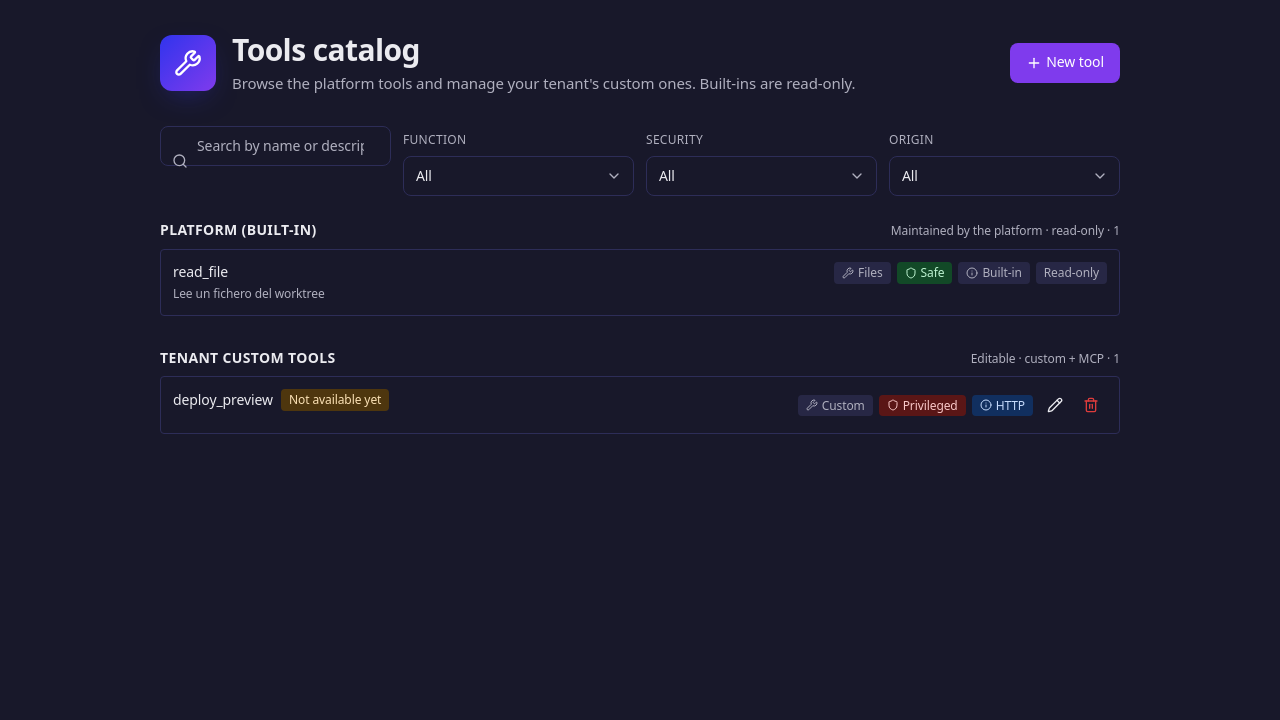
Test case: tools — catálogo en inglés › el diálogo de borrado rinde su aviso traducido
This screenshot has width=1280, height=720.
Click the button with test id "tool-delete-tool-2" at x=1091, y=405, box x1=1075 y1=389 x2=1107 y2=421
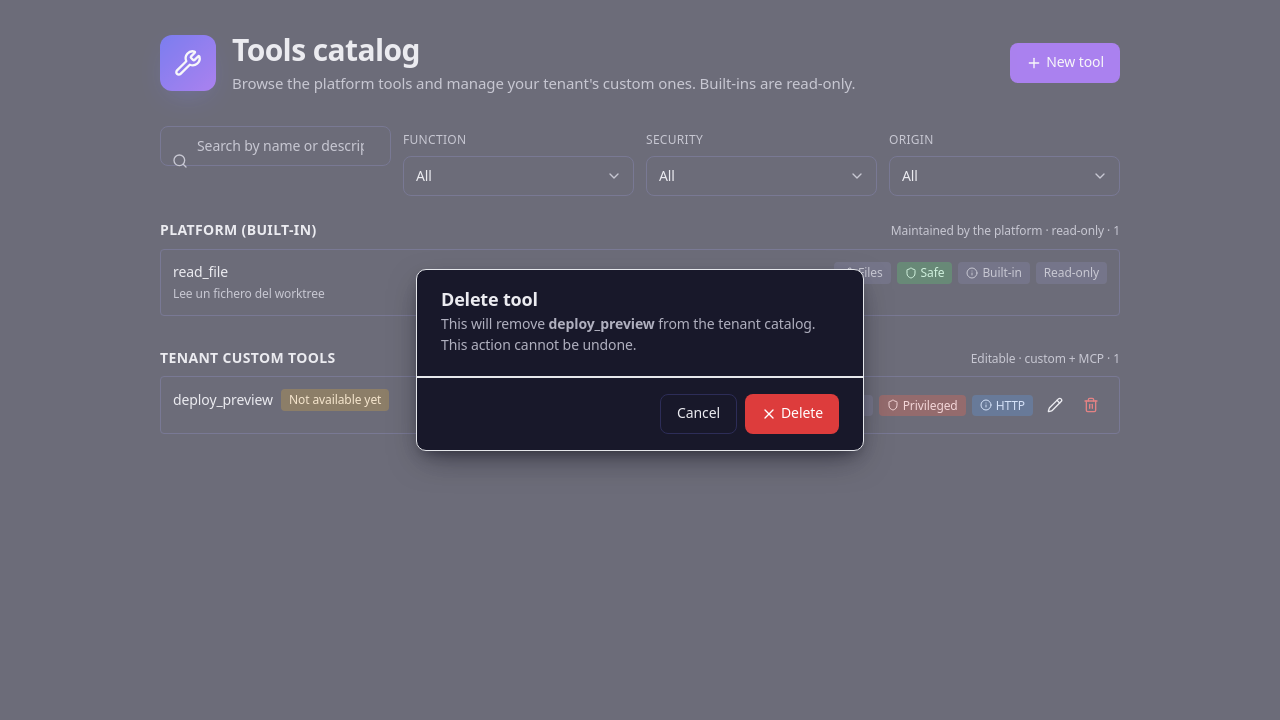
Check: the heading "Delete tool" is shown, box x1=441 y1=287 x2=538 y2=311
Check: the button with test id "tool-delete-confirm" reads "Delete", box x1=745 y1=394 x2=839 y2=434
